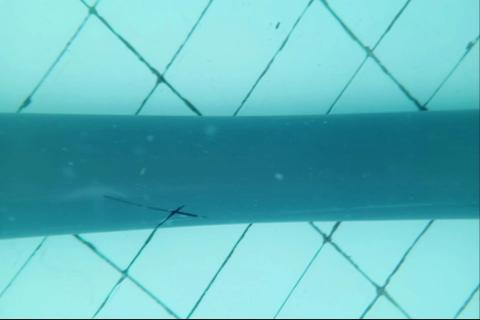keretakan: (100, 195, 202, 225)
